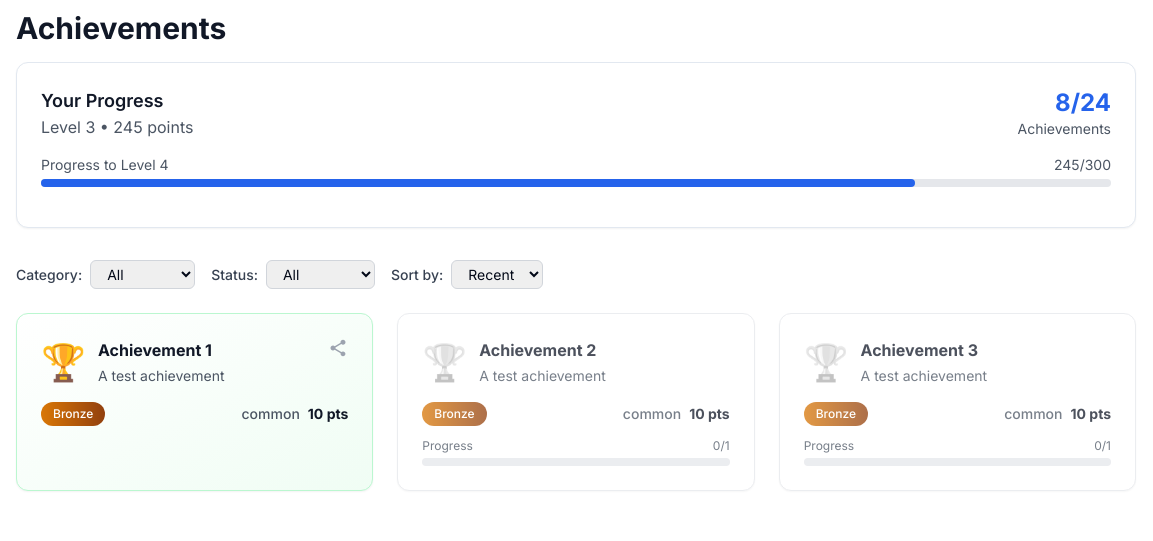
Test case: Achievements Component › User Interactions › handles achievement click and shows details
The width and height of the screenshot is (1153, 541).
Click the heading "Achievement 1" at coordinates (161, 350), box left=98, top=338, right=224, bottom=362
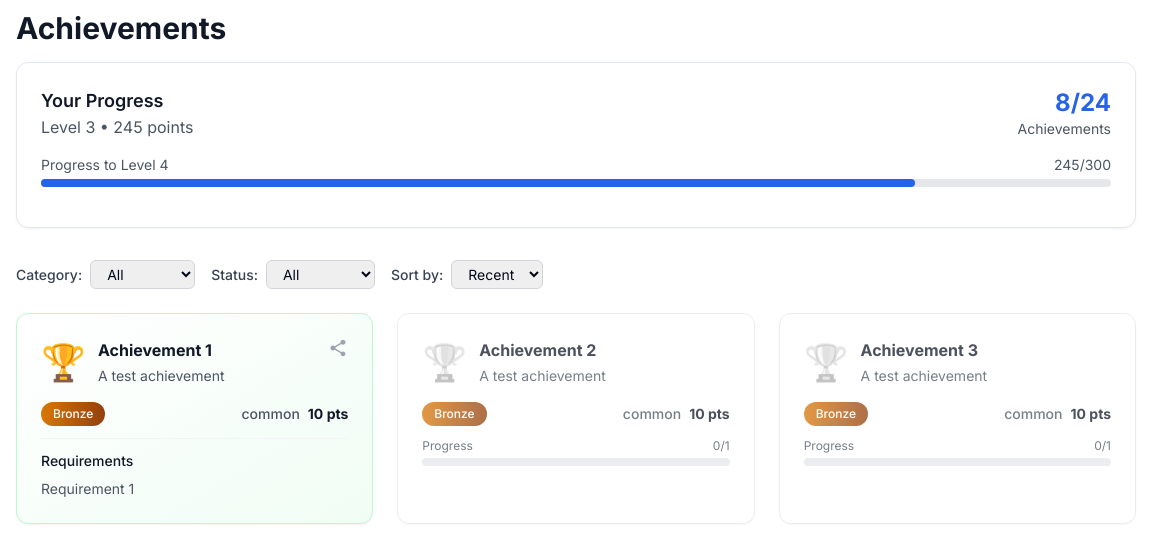
Result: the heading "Requirements" is shown at left=41, top=452, right=133, bottom=469
Result: the text "Requirement 1" is shown at left=41, top=480, right=134, bottom=497
